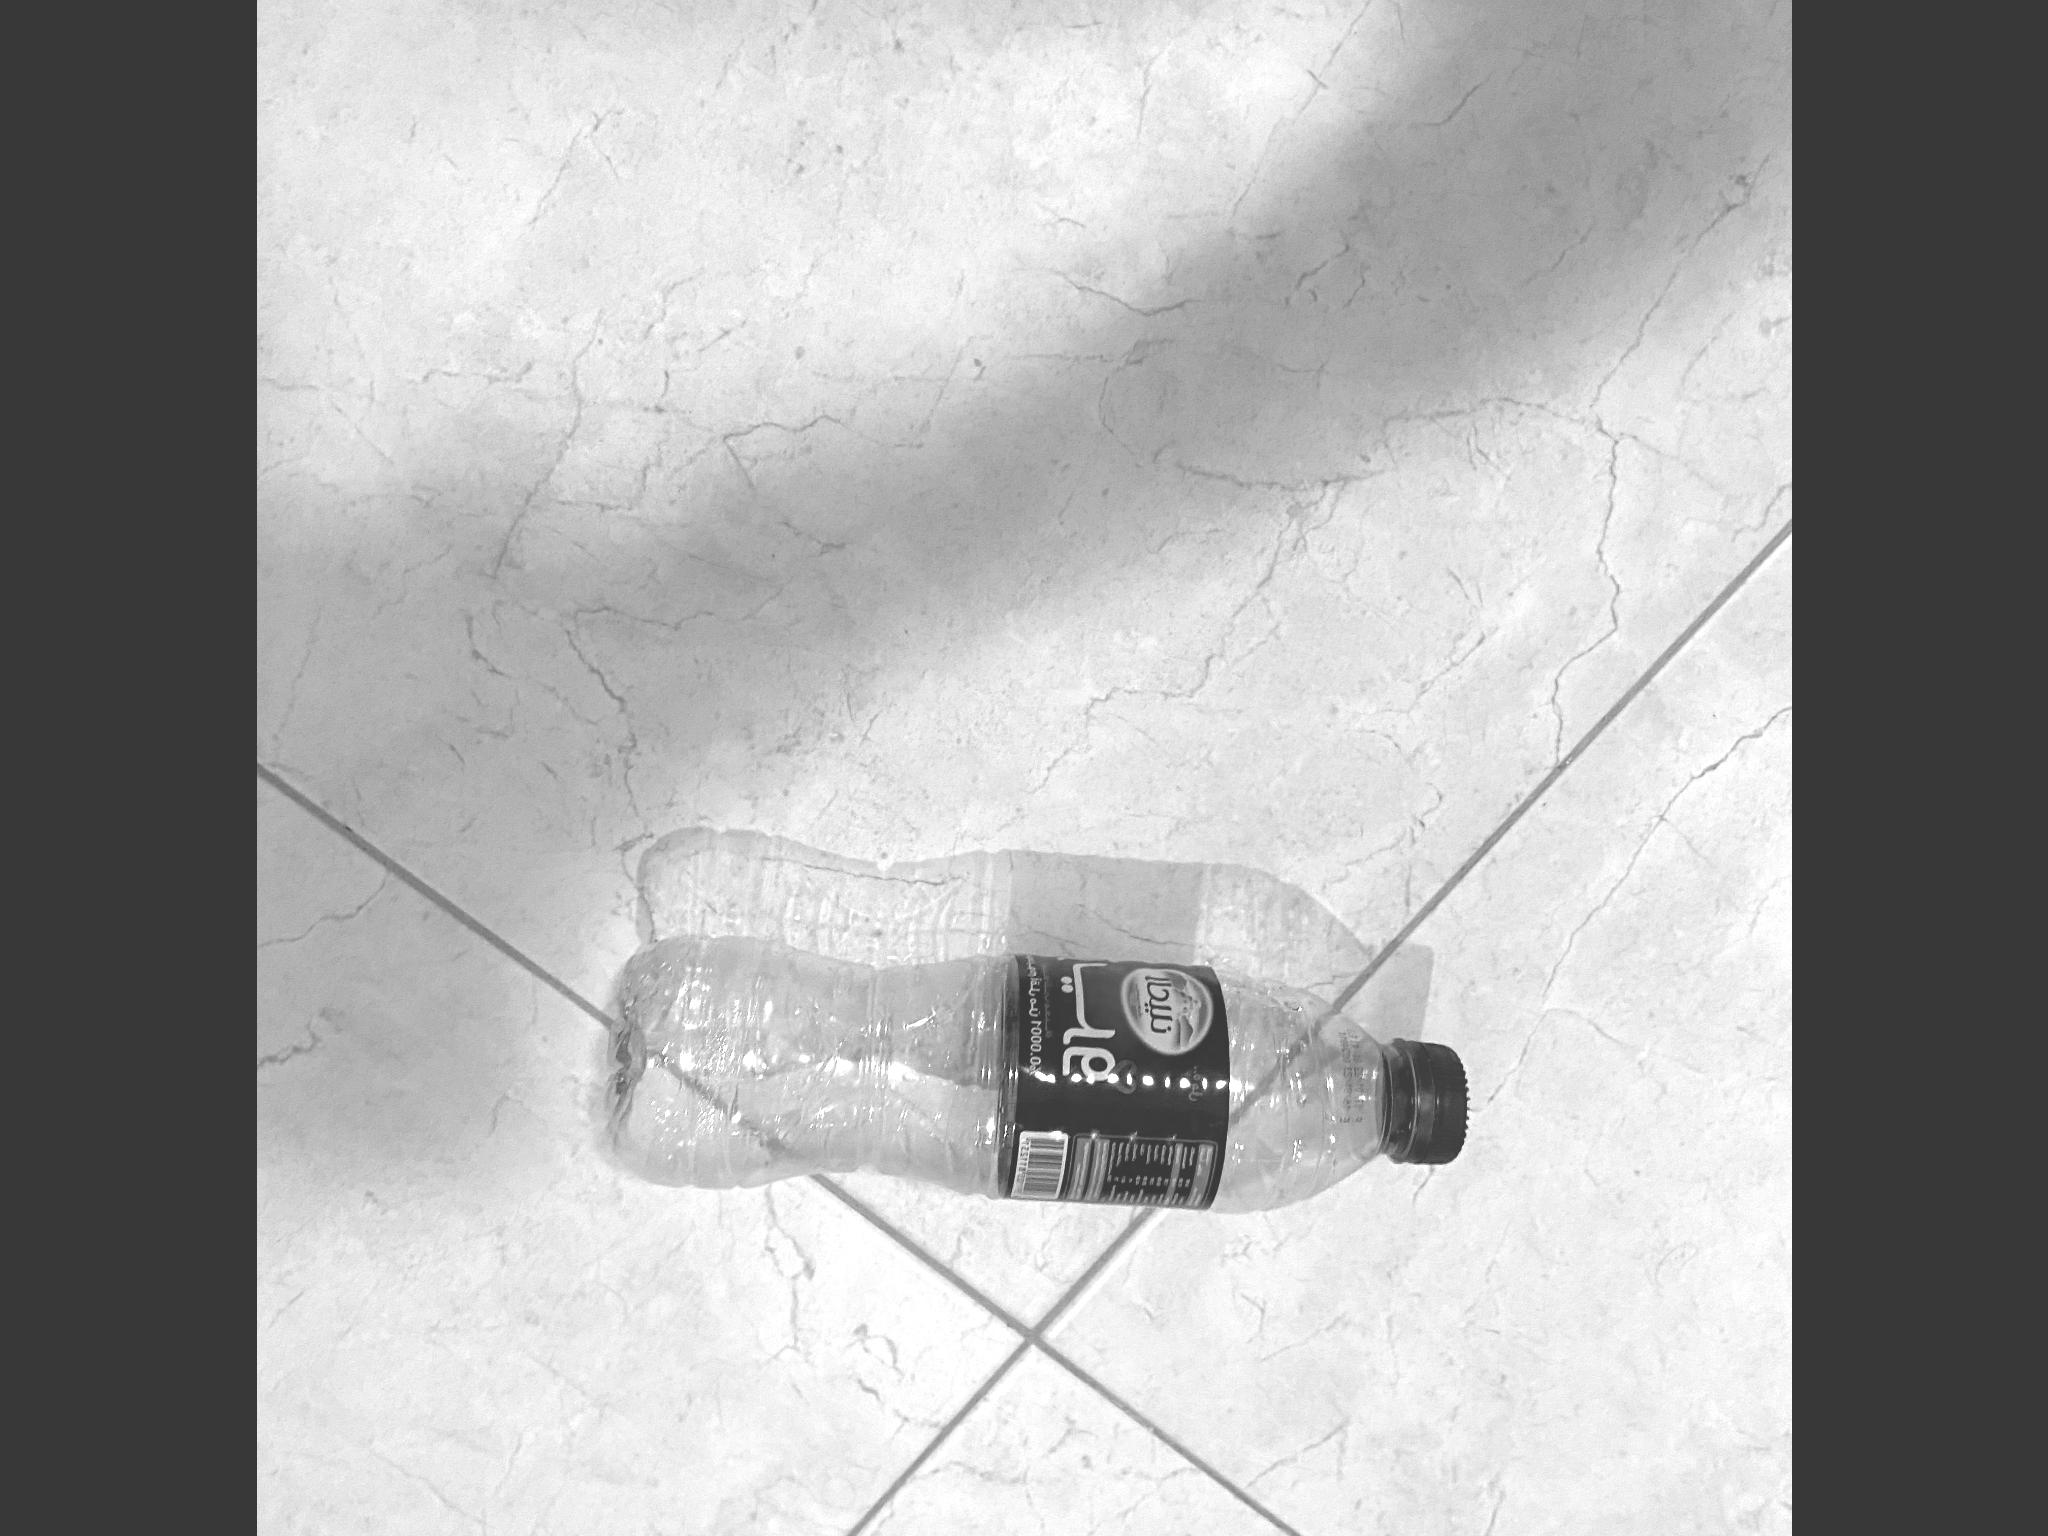bottle: (594, 902, 1472, 1238)
